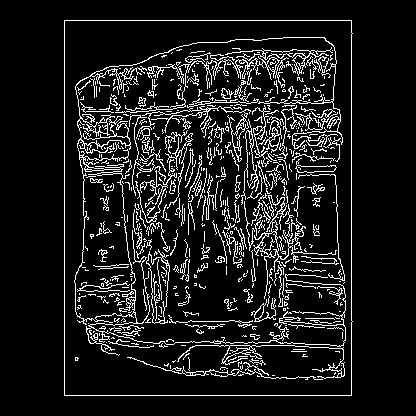buddha-pyre: (94, 219, 211, 223)
